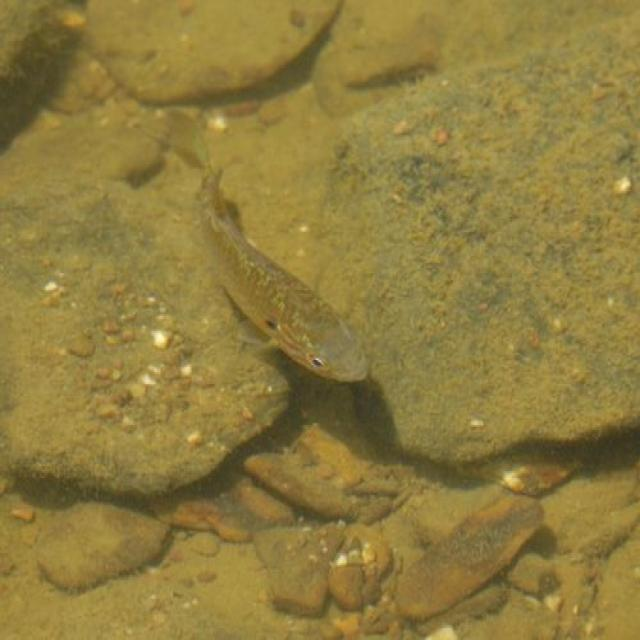Gunes Levregi: (156, 114, 372, 404)
